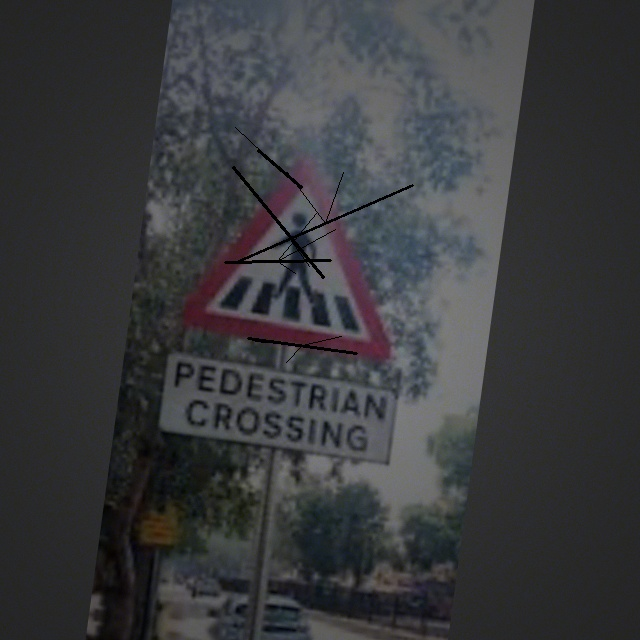Pedestrian_Crossing: (185, 140, 425, 358)
